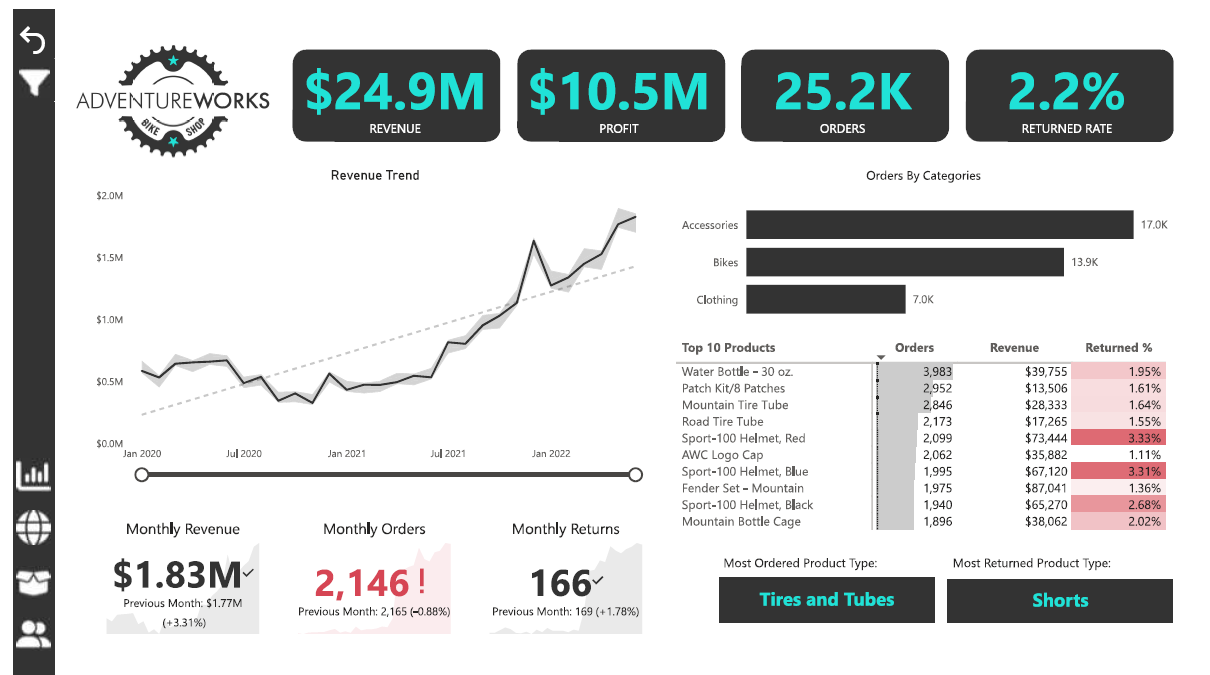

This screenshot's page, from the dashboard's own definition file:
{"tool":"powerbi","page":{"name":"Exec Details","canvas":[1280,720],"ordinal":0},"visuals":[{"type":"card","fields":{"Values":["Measure Table.Total Revenue"]},"box":[285,13.3,256.2,158.8],"z":0,"group":"g2"},{"type":"image","title":"AW Logo","box":[45,19.3,256.2,158.8],"z":0},{"type":"group","id":"g1","title":"KPI Background","box":[301.5,43,953,100],"z":0,"group":"g3"},{"type":"shape","box":[301.5,43,225,100],"z":0,"group":"g1"},{"type":"actionButton","box":[0,481.4,44.3,45.7],"z":0,"group":"g4"},{"type":"shape","title":"Left Nav Background","box":[0,0,45,720],"z":1000},{"type":"group","id":"g2","title":"KPI Values","box":[285,13.3,982.5,158.8],"z":1000,"group":"g3"},{"type":"card","fields":{"Values":["Measure Table.Total Profit"]},"box":[527.1,13.3,256.2,158.8],"z":1000,"group":"g2"},{"type":"shape","box":[1029.5,43,225,100],"z":1000,"group":"g1"},{"type":"actionButton","box":[0,597.1,44.3,45.7],"z":1000,"group":"g4"},{"type":"group","id":"g3","title":"KPIs","box":[285,13.3,982.5,158.8],"z":2000},{"type":"card","fields":{"Values":["Measure Table.Total Orders"]},"box":[769.2,13.3,256.2,158.8],"z":2000,"group":"g2"},{"type":"shape","box":[786.8,43,225,100],"z":2000,"group":"g1"},{"type":"actionButton","box":[0,537.1,44.3,45.7],"z":2000,"group":"g4"},{"type":"card","fields":{"Values":["Measure Table.Returned Rate"]},"box":[1011.3,13.3,256.2,158.8],"z":3000,"group":"g2"},{"type":"shape","box":[544.2,43,225,100],"z":3000,"group":"g1"},{"type":"lineChart","title":"Revenue Trend","fields":{"Category":["Calendar Lookup.Start of Month"],"Y":["Measure Table.Total Revenue"]},"box":[84.3,171.4,614.3,342.9],"z":3000},{"type":"actionButton","box":[0,652.8,44.3,45.7],"z":3000,"group":"g4"},{"type":"kpi","title":"Monthly Revenue","fields":{"Goal":["Measure Table.Previous Month Revenue"],"Indicator":["Measure Table.Total Revenue"],"TrendLine":["Calendar Lookup.Start of Month"]},"box":[96.2,550,175,130],"z":4000},{"type":"kpi","title":"Monthly Returns","fields":{"Goal":["Measure Table.Previous Month Returns"],"Indicator":["Measure Table.Total Returned"],"TrendLine":["Calendar Lookup.Start of Month"]},"box":[509.6,550,175,130],"z":5000},{"type":"kpi","title":"Monthly Orders","fields":{"Goal":["Measure Table.Previous Month Orders"],"Indicator":["Measure Table.Total Orders"],"TrendLine":["Calendar Lookup.Start of Month"]},"box":[302.9,550,175,130],"z":6000},{"type":"clusteredBarChart","title":"Orders By Categories","fields":{"Category":["Product Categories Lookup.CategoryName"],"Y":["Measure Table.Total Orders"]},"box":[712.9,170,542.9,181.4],"z":7000},{"type":"pivotTable","fields":{"Rows":["Product Lookup.ProductName"],"Values":["Measure Table.Total Orders","Measure Table.Total Revenue","Measure Table.Returned Rate"]},"box":[712.9,351.4,542.9,218.6],"z":8000},{"type":"card","fields":{"Values":["Min(Product Subcategories Lookup.SubcategoryName)"]},"box":[764.3,614.3,231.4,48.6],"z":9000},{"type":"textbox","box":[762.9,584.3,221.4,28.6],"z":10000},{"type":"textbox","box":[1011.4,584.3,221.4,28.6],"z":11000},{"type":"card","fields":{"Values":["Min(Product Subcategories Lookup.SubcategoryName)"]},"box":[1011.4,615.7,242.9,47.1],"z":12000},{"type":"actionButton","box":[1.4,12.9,44.3,40],"z":13000},{"type":"group","id":"g4","title":"Navigation Group","box":[0,481.4,44.3,217.1],"z":14000},{"type":"actionButton","box":[2.9,58.6,45.7,40],"z":15000}]}

Visuals, with their boxes on the page's 1280x720 design canvas (x1, y1, x2, y2). These are canvas units, not pixel positions in the 1210x675 screenshot, which may show the page scaled, cropped or inside an application window:
card - Measure Table.Total Revenue: [x1=285, y1=13, x2=541, y2=172]
"AW Logo" image: [x1=45, y1=19, x2=301, y2=178]
"KPI Background" group: [x1=302, y1=43, x2=1254, y2=143]
shape: [x1=302, y1=43, x2=526, y2=143]
actionButton: [x1=0, y1=481, x2=44, y2=527]
"Left Nav Background" shape: [x1=0, y1=0, x2=45, y2=720]
"KPI Values" group: [x1=285, y1=13, x2=1268, y2=172]
card - Measure Table.Total Profit: [x1=527, y1=13, x2=783, y2=172]
shape: [x1=1030, y1=43, x2=1254, y2=143]
actionButton: [x1=0, y1=597, x2=44, y2=643]
"KPIs" group: [x1=285, y1=13, x2=1268, y2=172]
card - Measure Table.Total Orders: [x1=769, y1=13, x2=1025, y2=172]
shape: [x1=787, y1=43, x2=1012, y2=143]
actionButton: [x1=0, y1=537, x2=44, y2=583]
card - Measure Table.Returned Rate: [x1=1011, y1=13, x2=1268, y2=172]
shape: [x1=544, y1=43, x2=769, y2=143]
"Revenue Trend" lineChart: [x1=84, y1=171, x2=699, y2=514]
actionButton: [x1=0, y1=653, x2=44, y2=698]
"Monthly Revenue" kpi: [x1=96, y1=550, x2=271, y2=680]
"Monthly Returns" kpi: [x1=510, y1=550, x2=685, y2=680]
"Monthly Orders" kpi: [x1=303, y1=550, x2=478, y2=680]
"Orders By Categories" clusteredBarChart: [x1=713, y1=170, x2=1256, y2=351]
pivotTable - Product Lookup.ProductName x Measure Table.Total Orders: [x1=713, y1=351, x2=1256, y2=570]
card - Min(Product Subcategories Lookup.SubcategoryName): [x1=764, y1=614, x2=996, y2=663]
textbox: [x1=763, y1=584, x2=984, y2=613]
textbox: [x1=1011, y1=584, x2=1233, y2=613]
card - Min(Product Subcategories Lookup.SubcategoryName): [x1=1011, y1=616, x2=1254, y2=663]
actionButton: [x1=1, y1=13, x2=46, y2=53]
"Navigation Group" group: [x1=0, y1=481, x2=44, y2=698]
actionButton: [x1=3, y1=59, x2=49, y2=99]
